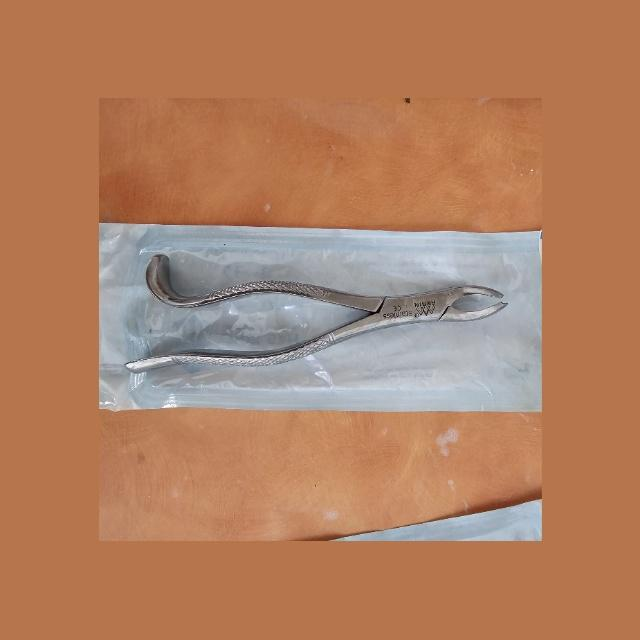forceps: (127, 255, 509, 372)
